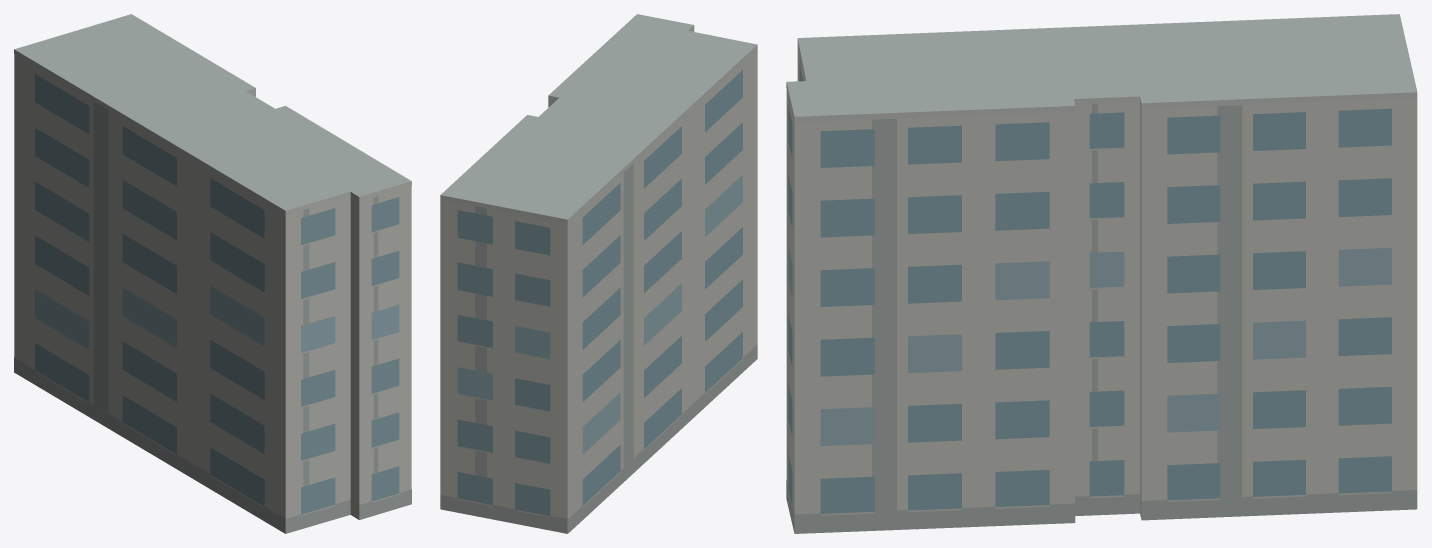
Rendered from survey-upis-32609703.glb.
3 renders of one model, left to right at view 1: azimuth 30°, elevation 25°; view 2: azimuth 150°, elevation 25°; view 3: azimuth 270°, elevation 25°, orthographic. The views are drawn at different scales.
Parts seen in each view (by area): view 1: survey-upis-32609703.tmp; view 2: survey-upis-32609703.tmp; view 3: survey-upis-32609703.tmp.
Part boxes in pixels (box(x1,y1,x2,y2)): survey-upis-32609703.tmp: box(14, 14, 411, 533); survey-upis-32609703.tmp: box(440, 14, 757, 533); survey-upis-32609703.tmp: box(786, 14, 1417, 533).
Bounding box in the file's own units: 9.1 × 17.2 × 23.59.
